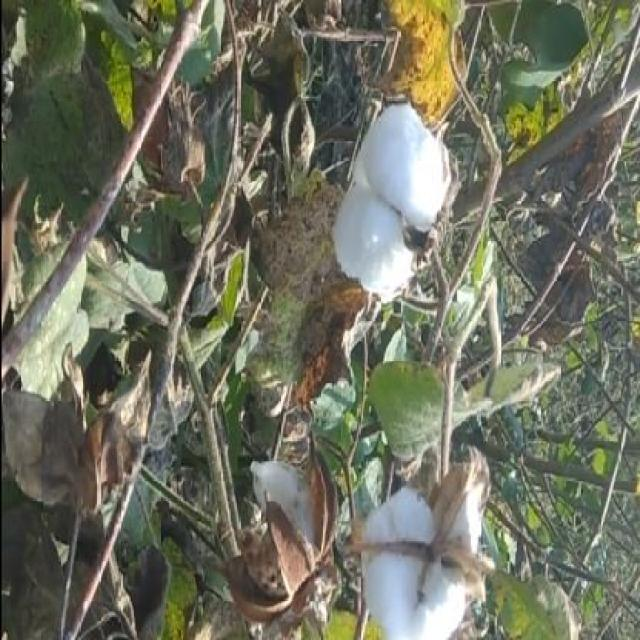cotton_ready: (321, 90, 462, 348), (350, 422, 488, 640)
